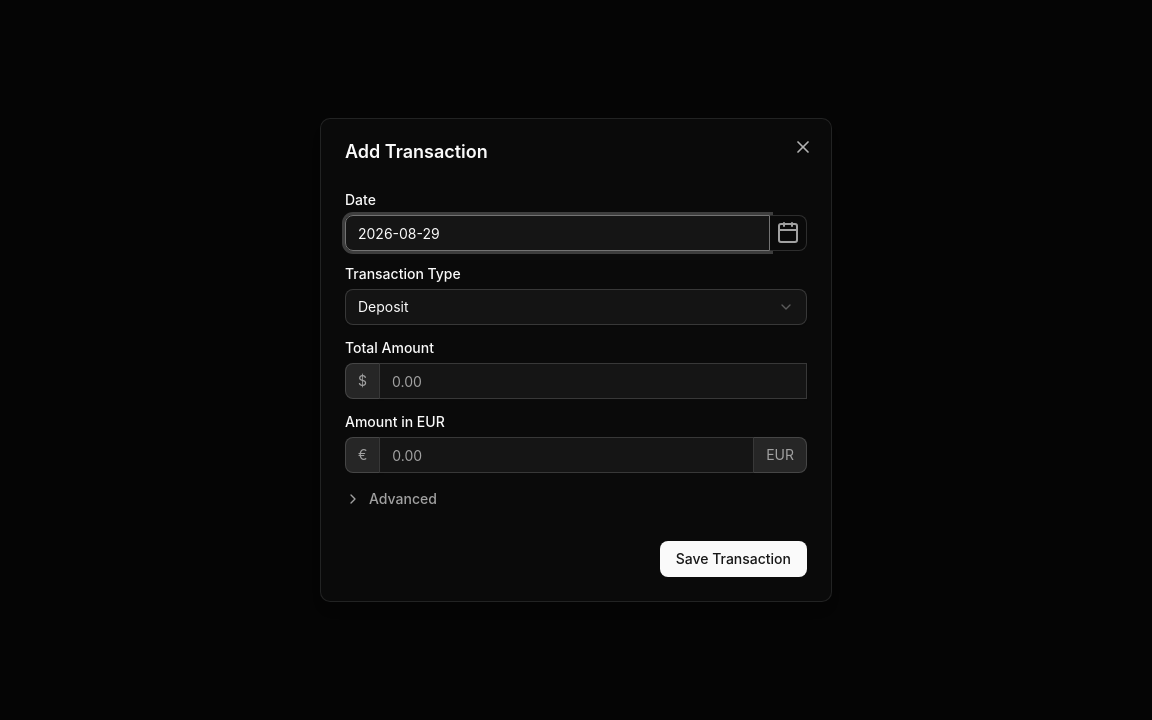
TransactionModal — sell suggestions › renders text Input for ticker when type is BUY
Click the dropdown named "Transaction Type". click: (383, 306)
box: [345,289,807,325]
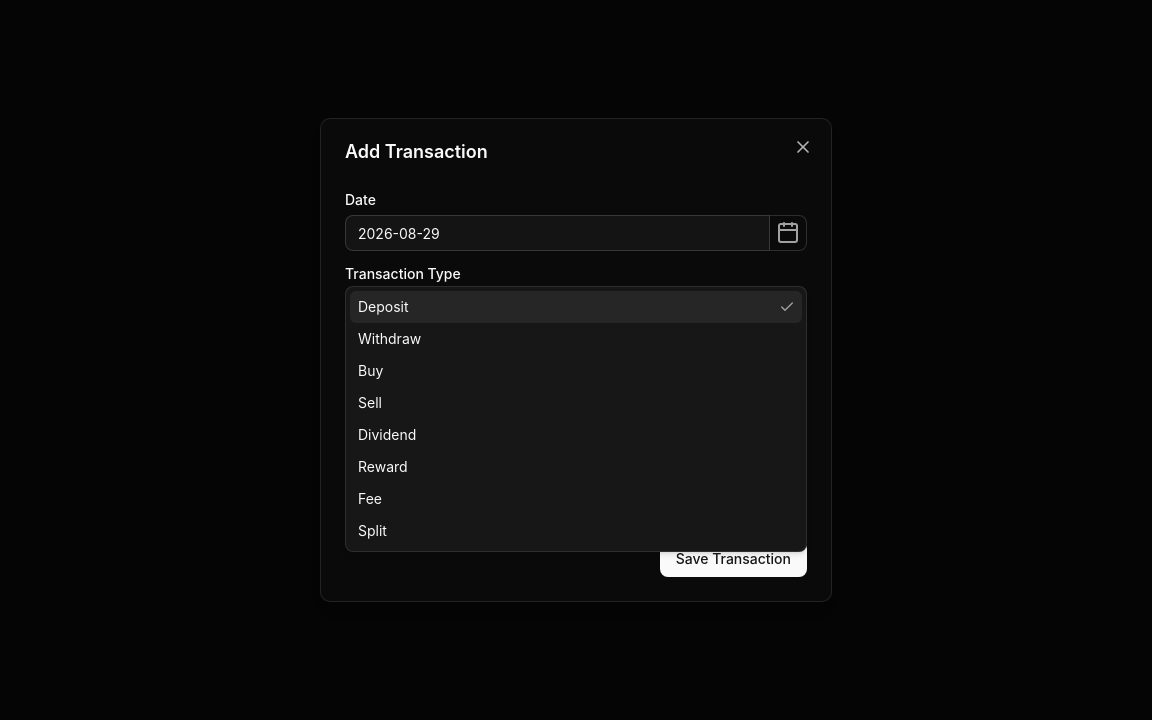
Click the option "Buy". click: (371, 370)
box: [358,362,383,379]
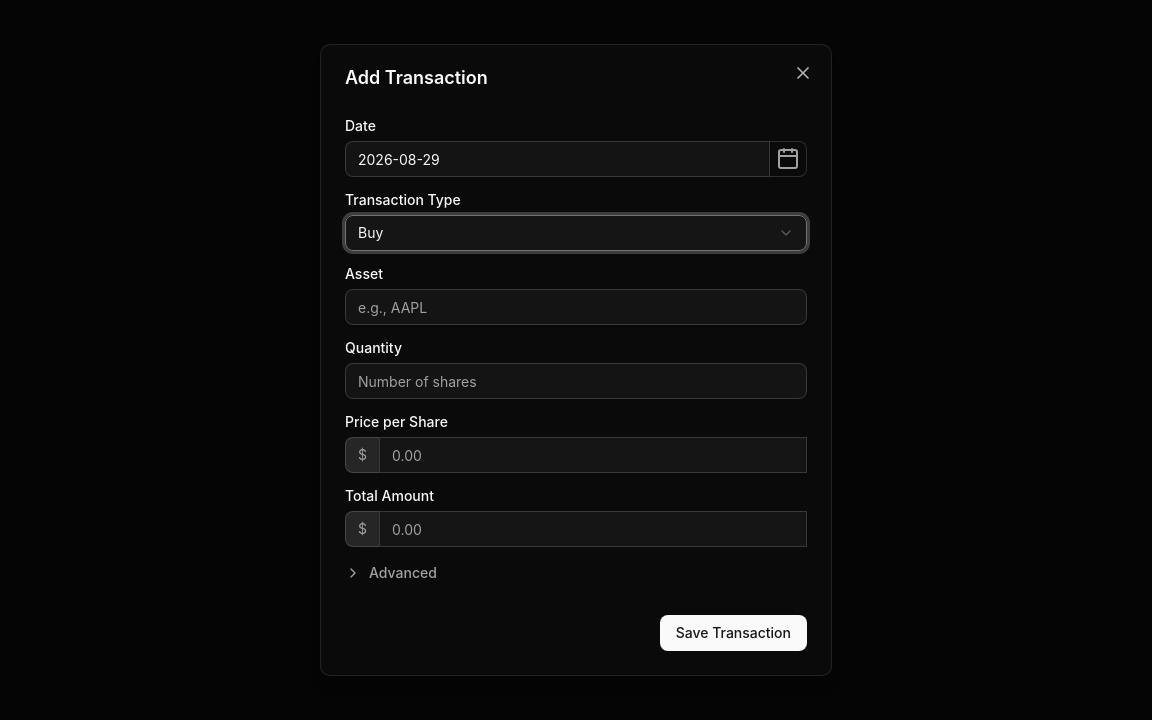
Check: the field labelled "Asset" is shown, box [345,289,807,325]
